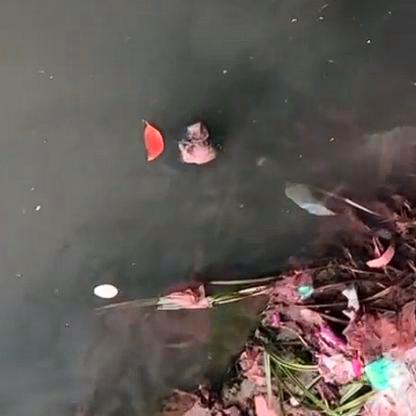Metal: (292, 276, 314, 297)
Trash: (292, 328, 364, 388), (282, 177, 341, 218), (94, 280, 120, 302)
